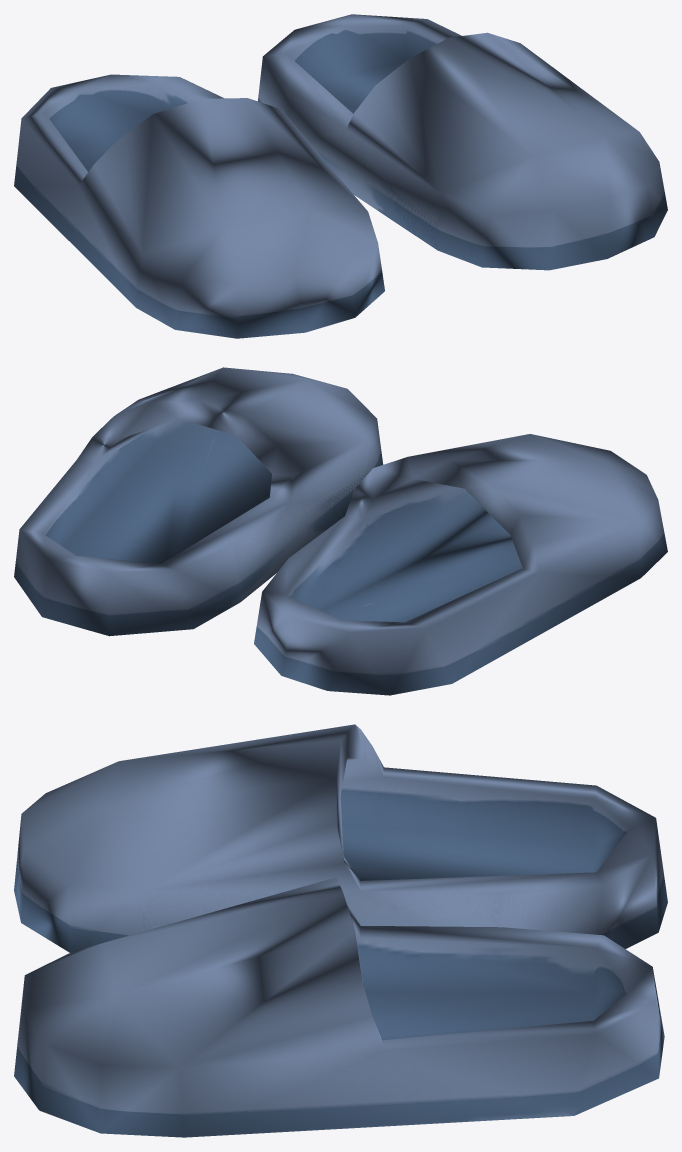
Rendered from slippers.fbx.
3 views of the same model, one above another, from view 1: azimuth 30°, elevation 25°; view 2: azimuth 150°, elevation 25°; view 3: azimuth 270°, elevation 25° (orthographic). The views are drawn at different scales.
Parts seen in each view (by area): view 1: Mesh_0; view 2: Mesh_0; view 3: Mesh_0.
Boxes of the visible parts, x1,y1,x2,y2 form: Mesh_0: (14,14,667,338); Mesh_0: (14,367,667,695); Mesh_0: (14,724,667,1137).
Bounding box in the file's own units: 96.53 × 24.27 × 85.94.
Materials: 1 (1 with a texture image).
